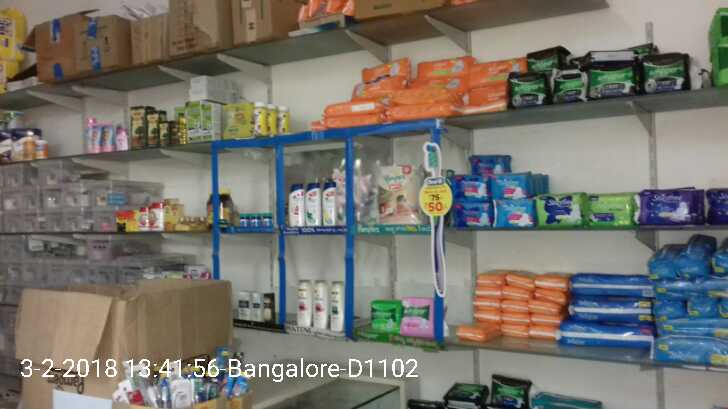beauty: (292, 279, 313, 326), (311, 279, 328, 331), (303, 184, 323, 226), (329, 282, 343, 335), (288, 184, 305, 224), (321, 180, 334, 226), (237, 288, 250, 320), (260, 293, 273, 323)
pharmacy: (376, 161, 419, 224), (631, 52, 695, 94), (582, 53, 634, 101), (399, 291, 433, 338), (506, 74, 547, 108), (366, 301, 405, 333), (552, 68, 585, 103), (240, 212, 270, 231)
